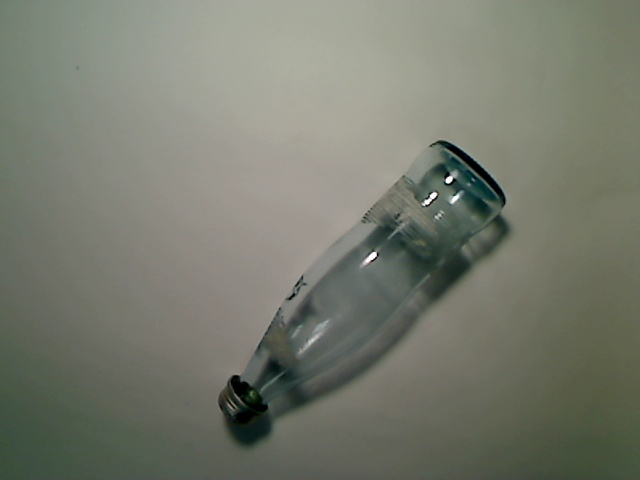bottle: (216, 139, 509, 427)
